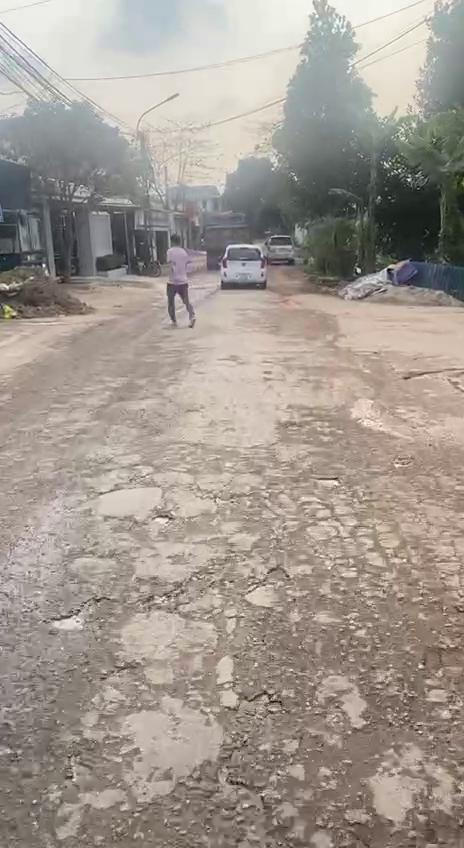pothole: (218, 680, 306, 770), (214, 773, 295, 848), (46, 600, 92, 638), (136, 586, 185, 613)
